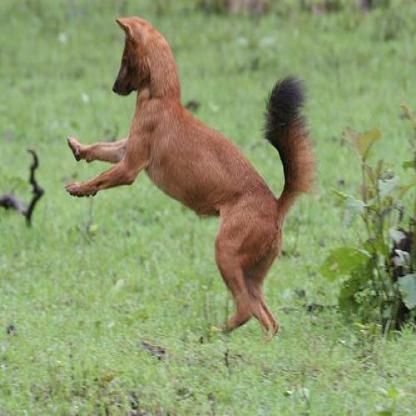dhole: (64, 16, 317, 339)
